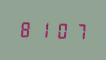eight: (18, 18, 34, 39)
one: (35, 19, 51, 39)
seven: (69, 20, 85, 41)
zero: (52, 19, 68, 40)
